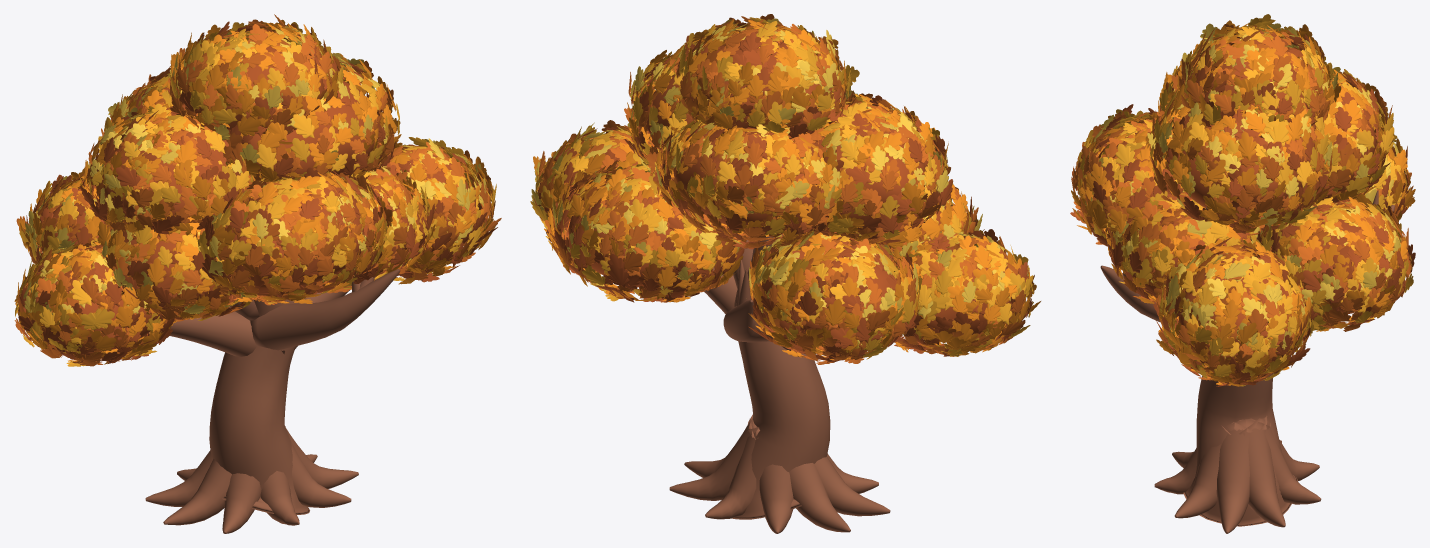
The model's file is reference_autumn_tree.glb.
The picture shows the model from 3 angles, left to right: view 1: azimuth 30°, elevation 25°; view 2: azimuth 150°, elevation 25°; view 3: azimuth 270°, elevation 25°; orthographic projection. The views are drawn at different scales.
Parts seen in each view (by area): view 1: Autumn_Autumn_Tree; view 2: Autumn_Autumn_Tree; view 3: Autumn_Autumn_Tree.
Part boxes in pixels (left/top/right/bottom): Autumn_Autumn_Tree: left=14, top=14, right=501, bottom=533; Autumn_Autumn_Tree: left=530, top=14, right=1040, bottom=533; Autumn_Autumn_Tree: left=1070, top=14, right=1415, bottom=533.
Size of the model in its own units: 6.75 by 6.51 by 4.26.
